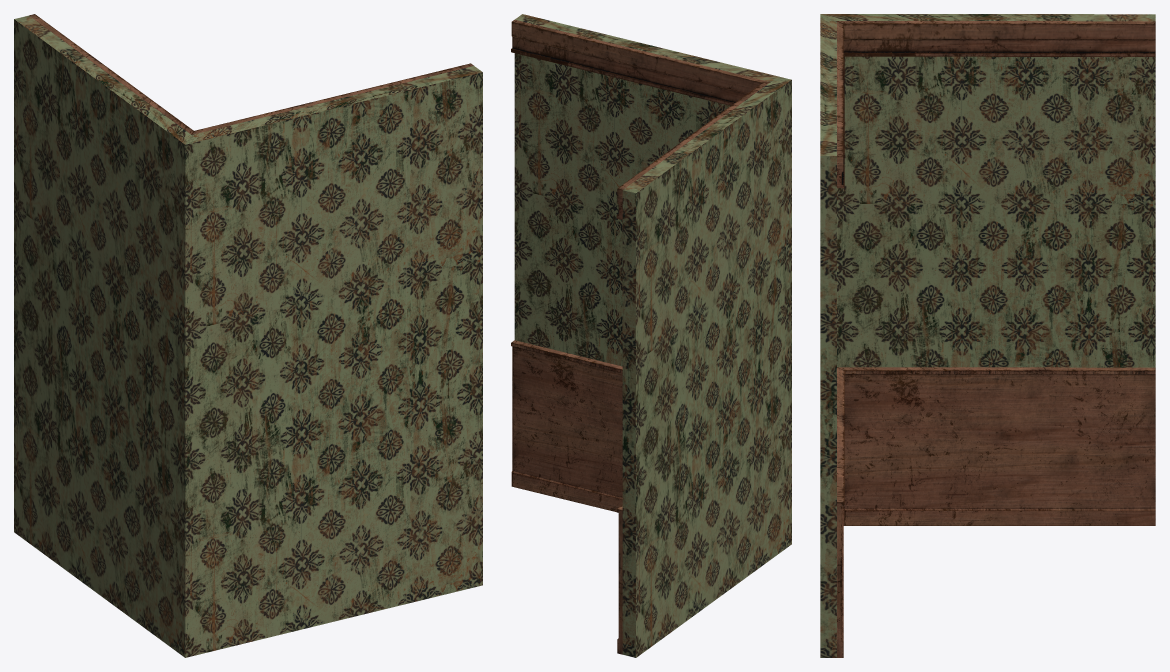
The model's file is Wall_CornerIn_2m_A.fbx.
3 renders of one model, left to right at view 1: azimuth 30°, elevation 25°; view 2: azimuth 150°, elevation 25°; view 3: azimuth 270°, elevation 25°, orthographic. The views are drawn at different scales.
Parts seen in each view (by area): view 1: Wall_CornerIn_2m_A; view 2: Wall_CornerIn_2m_A; view 3: Wall_CornerIn_2m_A.
Part boxes in pixels (bbox=[...]): Wall_CornerIn_2m_A: bbox=[14, 14, 482, 657]; Wall_CornerIn_2m_A: bbox=[511, 14, 791, 657]; Wall_CornerIn_2m_A: bbox=[820, 14, 1155, 657].
Bounding box in the file's own units: 2 × 2 × 3.3.
2 materials, 2 textured.
